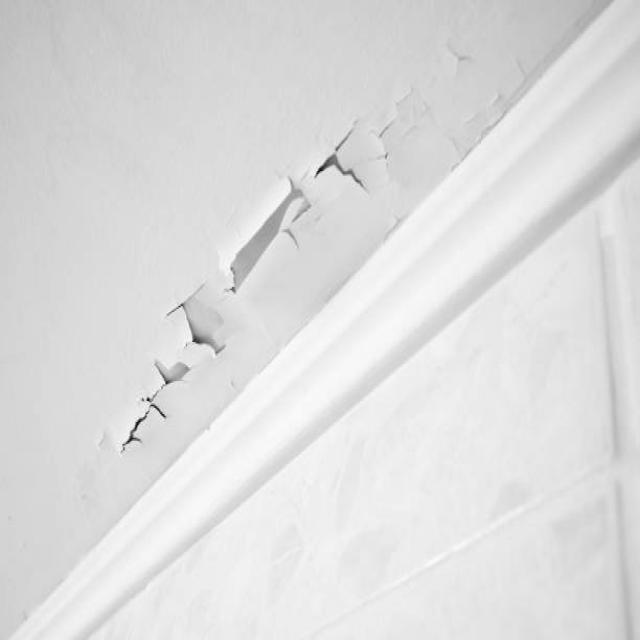peeling paint: (92, 56, 431, 478)
